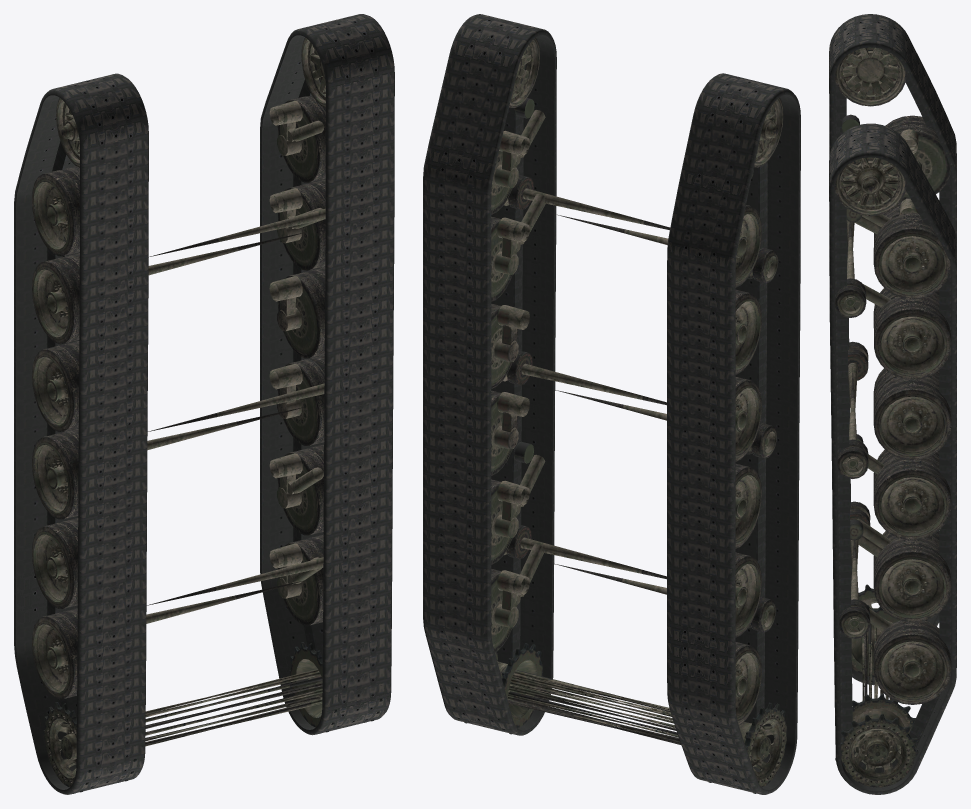
Rendered from Chassis.glb.
The picture shows the model from 3 angles, left to right: view 1: azimuth 30°, elevation 25°; view 2: azimuth 150°, elevation 25°; view 3: azimuth 270°, elevation 25°; orthographic projection. The views are drawn at different scales.
Visible parts, largest first — view 1: set_0_group_0, set_1_group_0, set_3_group_0, set_2_group_0; view 2: set_0_group_0, set_1_group_0, set_3_group_0, set_2_group_0; view 3: set_3_group_0, set_1_group_0, set_2_group_0, set_0_group_0.
Part boxes in pixels (bbox=[...]): set_0_group_0: bbox=[14, 73, 148, 794]; set_1_group_0: bbox=[260, 14, 394, 735]; set_3_group_0: bbox=[147, 37, 382, 732]; set_2_group_0: bbox=[32, 98, 306, 793]; set_0_group_0: bbox=[667, 73, 800, 794]; set_1_group_0: bbox=[423, 14, 556, 735]; set_3_group_0: bbox=[453, 37, 670, 734]; set_2_group_0: bbox=[552, 97, 786, 793]; set_3_group_0: bbox=[834, 157, 951, 787]; set_1_group_0: bbox=[829, 123, 956, 794]; set_2_group_0: bbox=[834, 47, 950, 698]; set_0_group_0: bbox=[829, 14, 956, 685].
Size of the model in its own units: 3.13 by 6.73 by 1.21.
Materials: 4 (4 with a texture image).
